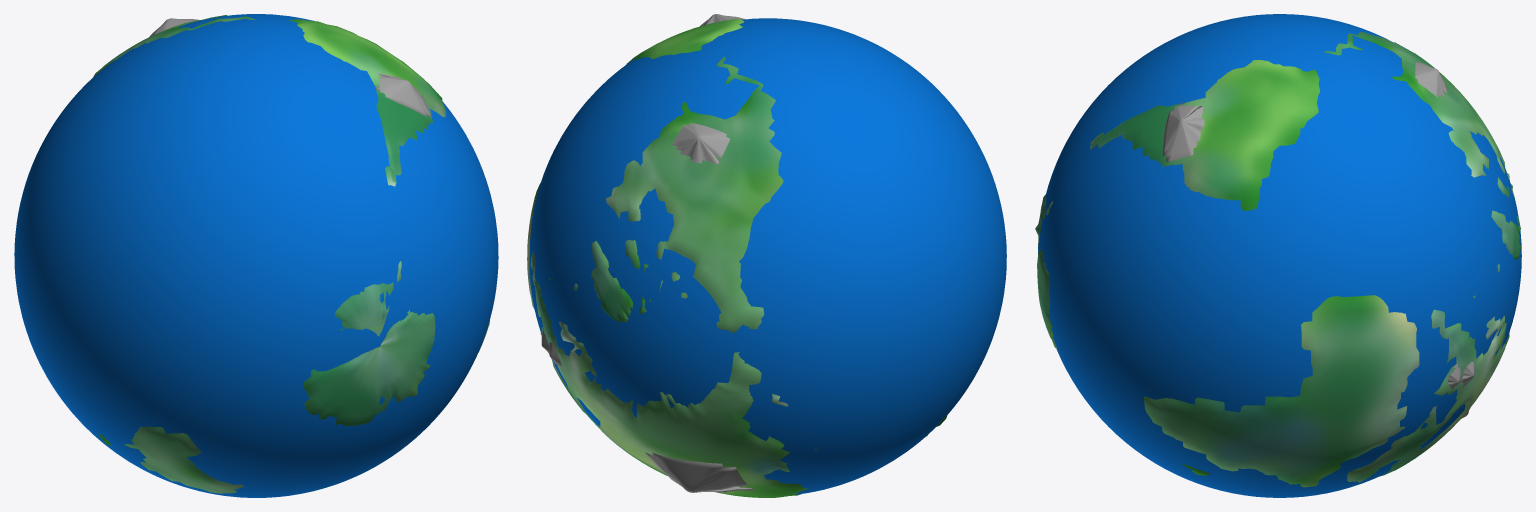
Rendered from EarthWet.fbx.
3 renders of one model, left to right at view 1: azimuth 30°, elevation 25°; view 2: azimuth 150°, elevation 25°; view 3: azimuth 270°, elevation 25°, orthographic.
Visible parts, largest first — view 1: EarthWet, Land.002, Mountains.002; view 2: EarthWet, Land.002, Mountains.002; view 3: EarthWet, Land.002, Mountains.002.
Part boxes in pixels (<box>): EarthWet: <box>14,14,498,497</box>; Land.002: <box>93,15,489,493</box>; Mountains.002: <box>149,18,431,116</box>; EarthWet: <box>529,18,1006,494</box>; Land.002: <box>527,19,947,497</box>; Mountains.002: <box>541,14,754,492</box>; EarthWet: <box>1038,14,1521,497</box>; Land.002: <box>1035,31,1520,487</box>; Mountains.002: <box>1162,62,1474,418</box>.
Bounding box in the file's own units: 800 × 800 × 805.
3 materials, 1 textured.
